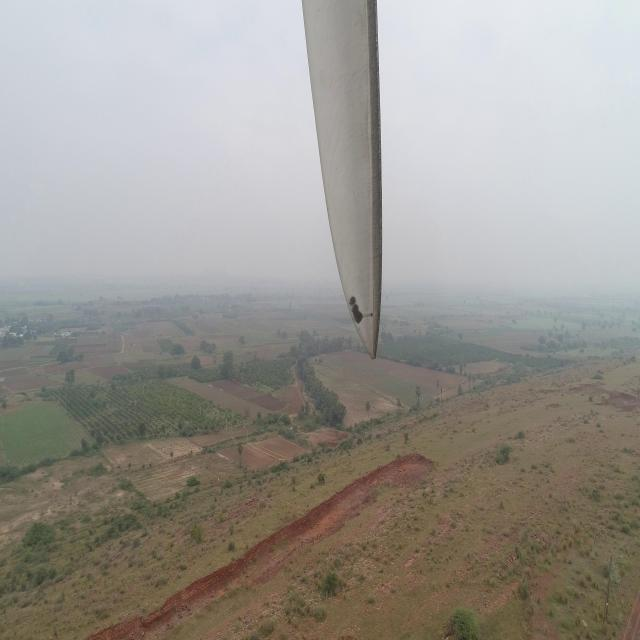Oil LEAKAGE: (349, 298, 364, 326)
Pin Hole: (367, 308, 379, 322)
